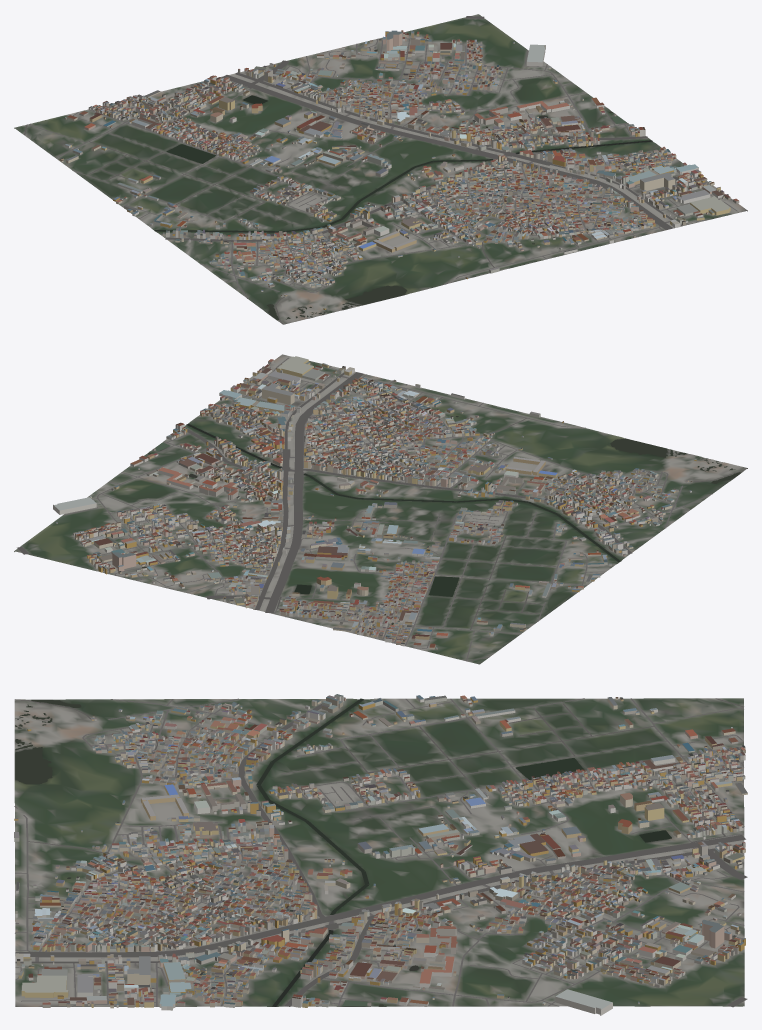
3 renders of one model, top to bottom at view 1: azimuth 30°, elevation 25°; view 2: azimuth 150°, elevation 25°; view 3: azimuth 270°, elevation 25°, orthographic. The views are drawn at different scales.
Visible parts, largest first — view 1: ground, buildings, roads, water; view 2: ground, buildings, roads, water; view 3: ground, buildings, roads, water.
Part boxes in pixels (x1,y1,x2,y2): ground: [14, 14, 747, 324]; buildings: [59, 30, 739, 309]; roads: [24, 16, 737, 324]; water: [154, 95, 652, 319]; ground: [14, 354, 747, 664]; buildings: [53, 356, 696, 649]; roads: [17, 357, 747, 661]; water: [148, 416, 740, 596]; ground: [14, 698, 744, 1006]; buildings: [14, 694, 747, 1015]; roads: [14, 698, 747, 1007]; water: [15, 698, 671, 1006].
Size of the model in its own units: 1447 by 38.88 by 1411.
